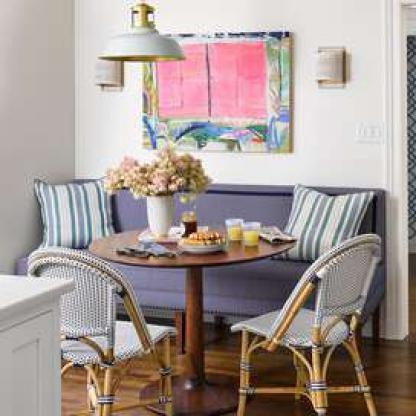chair: (227, 230, 397, 416), (18, 245, 184, 416)
light: (99, 0, 186, 66), (309, 34, 359, 94), (88, 57, 129, 98)
sofa: (18, 178, 386, 347)
table: (82, 224, 296, 416), (0, 269, 76, 415)
